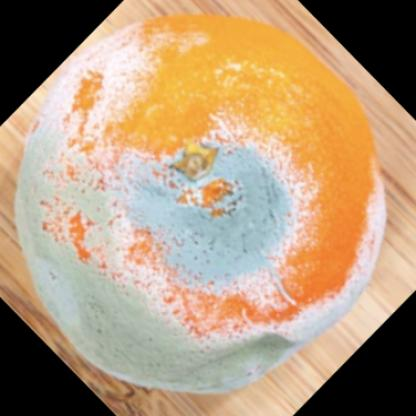rotten: (16, 14, 385, 392)
